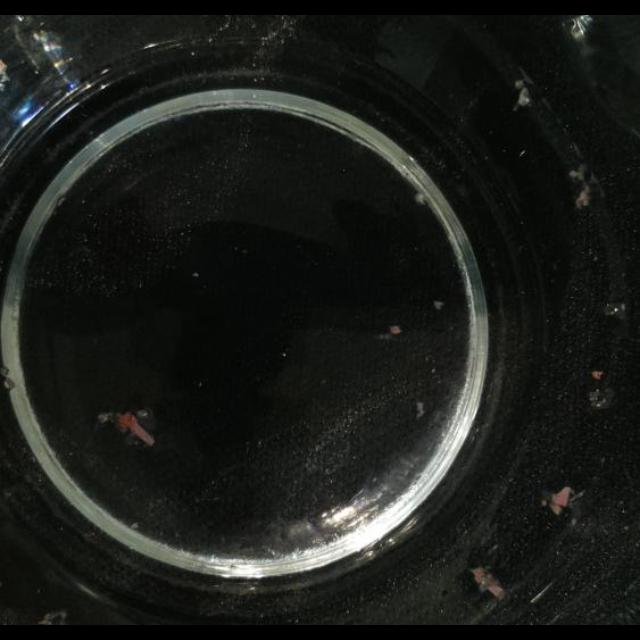Fibre: (568, 166, 596, 208), (512, 78, 532, 110), (604, 302, 626, 316)
Fragment: (100, 408, 158, 448), (462, 561, 508, 605), (550, 484, 584, 520)
microbeads: (414, 191, 428, 205), (388, 324, 402, 334), (591, 370, 603, 380), (434, 301, 444, 311), (130, 522, 140, 530)
